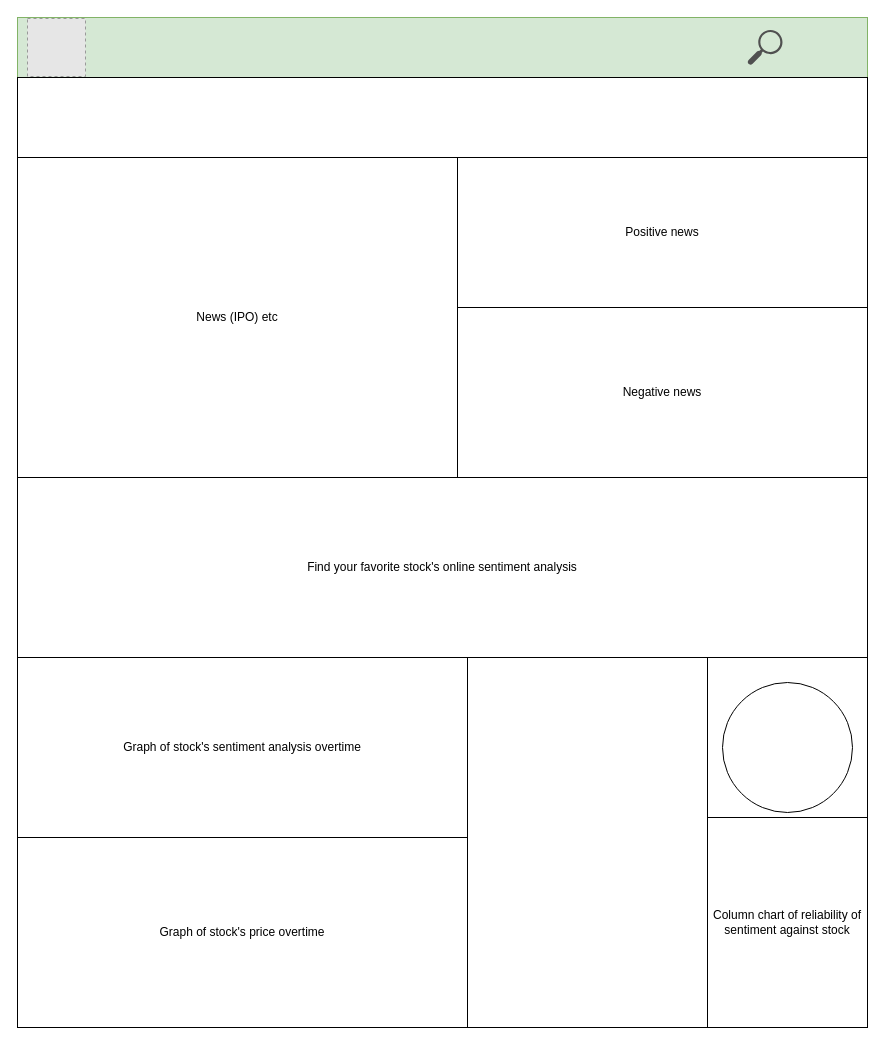
This 885x1045 diagram has some shape labels left out. Grey dashed boxes stand in for pictures. The centre of each missing label's shape, as x and y in pixels:
Ads: point 442,117
Pie chart of source of data: point 787,747
Stock price prediction: point 587,842
